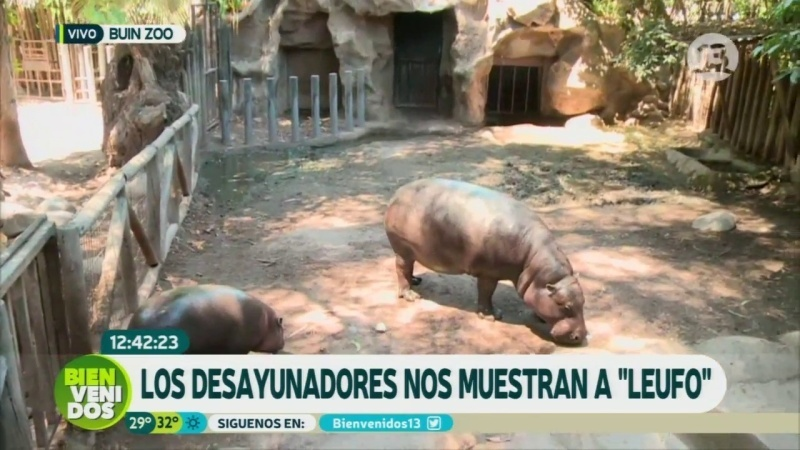hipopotamo: (370, 161, 616, 353), (118, 269, 300, 354)
